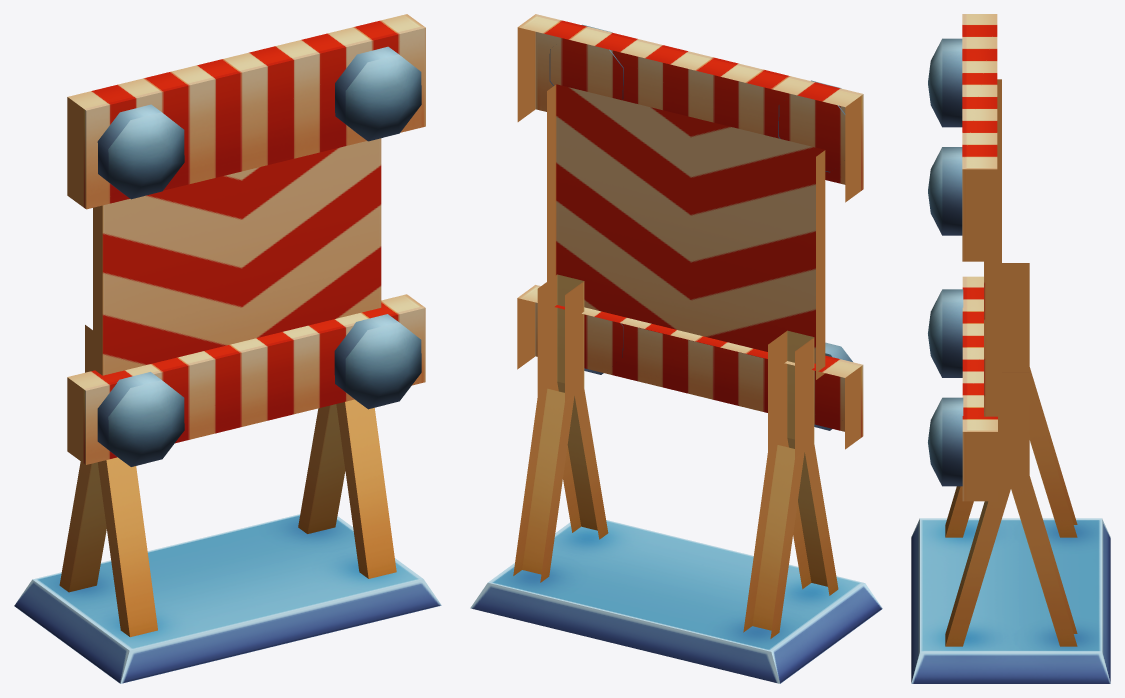
The model's file is Obstacle_01.fbx.
3 views of the same model, side by side, from view 1: azimuth 30°, elevation 25°; view 2: azimuth 150°, elevation 25°; view 3: azimuth 270°, elevation 25° (orthographic). The views are drawn at different scales.
Visible parts, largest first — view 1: Obstacle_01; view 2: Obstacle_01; view 3: Obstacle_01.
Boxes of the visible parts, left/top/right/bottom form: Obstacle_01: left=14, top=14, right=441, bottom=683; Obstacle_01: left=470, top=14, right=882, bottom=683; Obstacle_01: left=911, top=14, right=1110, bottom=683.
Size of the model in its own units: 346 by 540 by 188.
